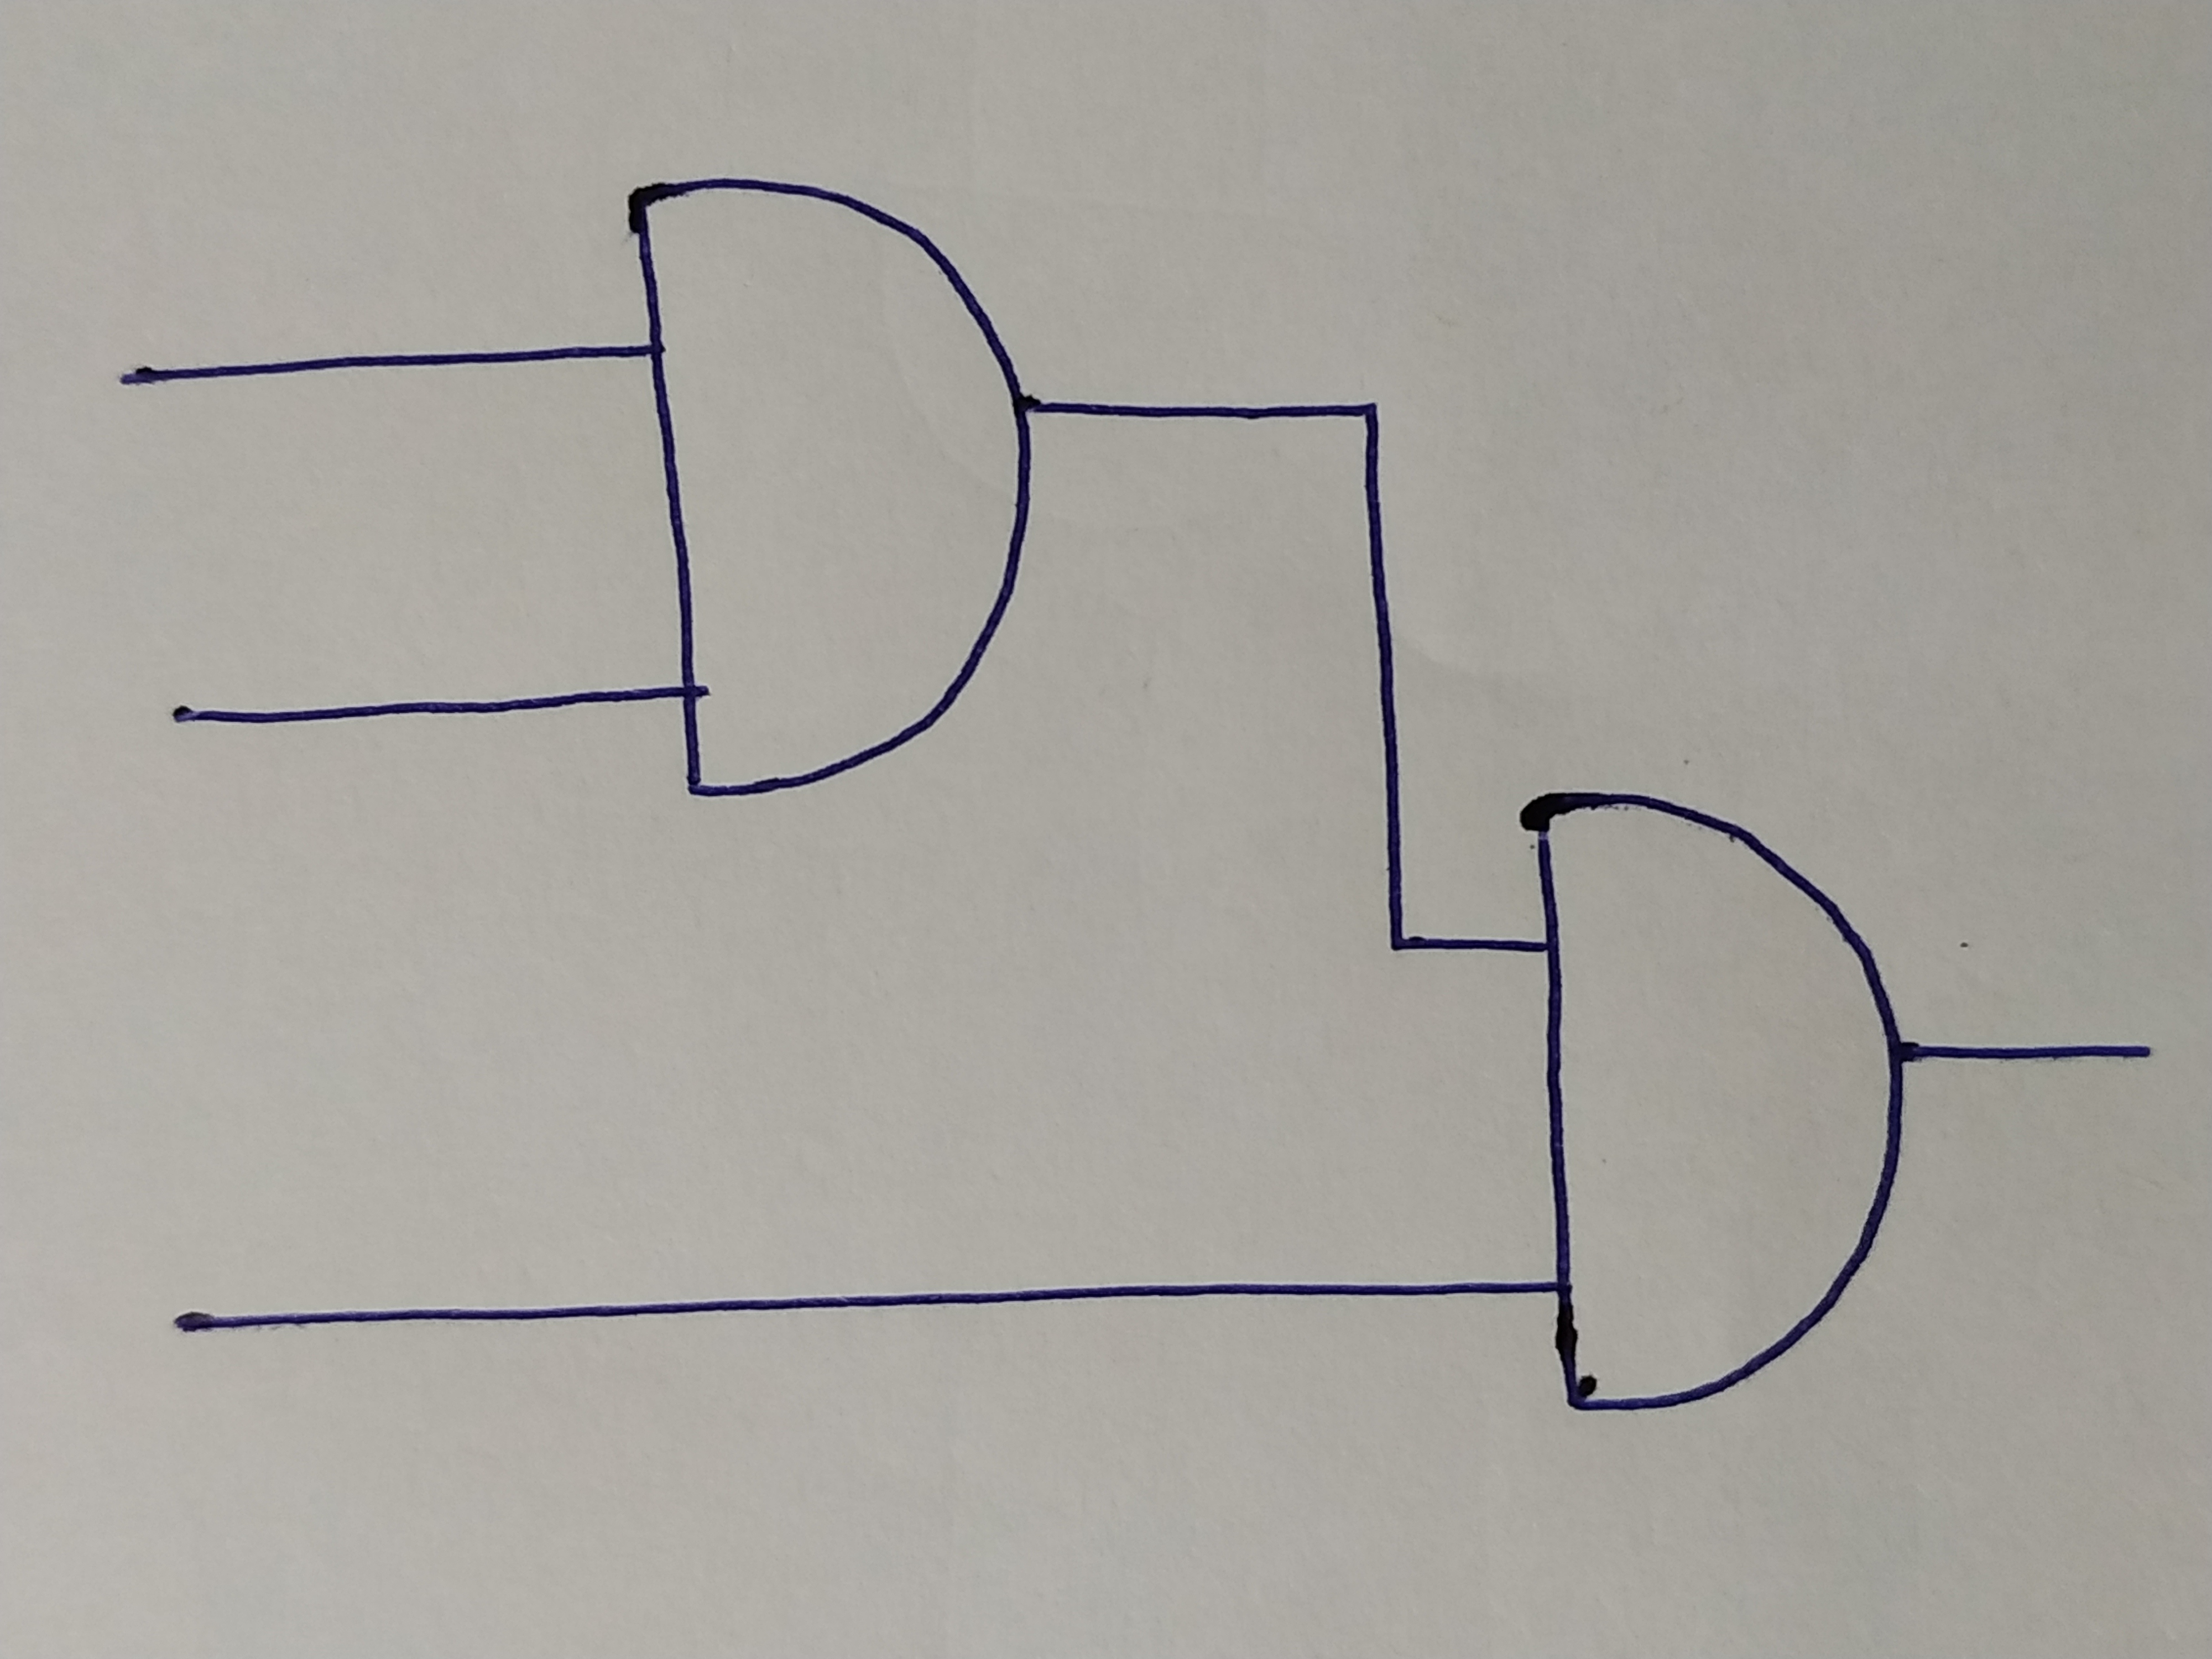and: (624, 178, 1033, 798), (1524, 791, 1904, 1413)
